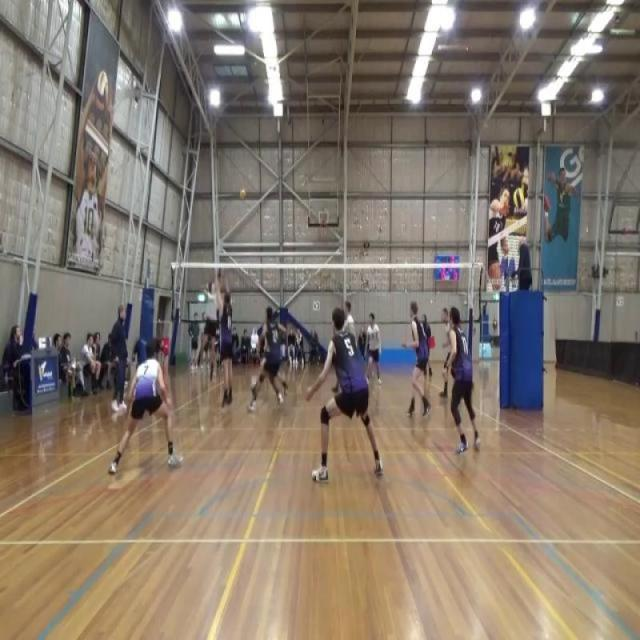volleyball: (95, 67, 109, 113), (512, 187, 525, 210), (238, 187, 248, 203)
